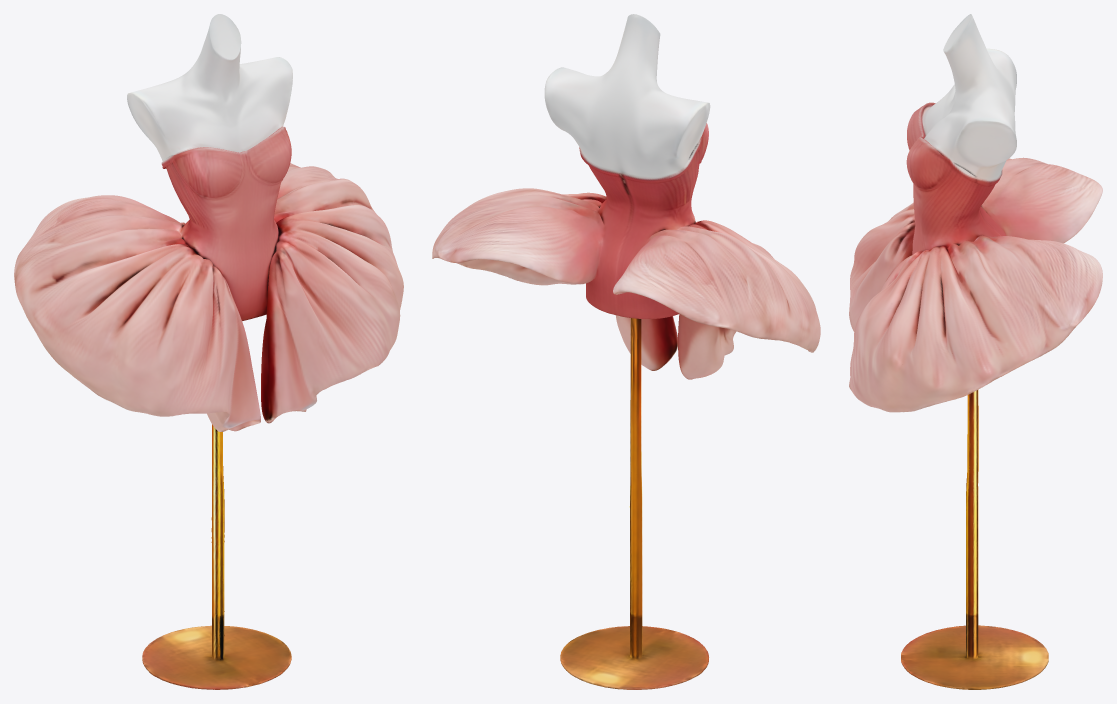
Rendered from base_basic_shaded.fbx.
3 views of the same model, side by side, from view 1: azimuth 30°, elevation 25°; view 2: azimuth 150°, elevation 25°; view 3: azimuth 270°, elevation 25° (orthographic).
Visible parts, largest first — view 1: model; view 2: model; view 3: model.
Boxes of the visible parts, left/top/right/bottom form: model: left=14, top=14, right=403, bottom=689; model: left=432, top=14, right=820, bottom=689; model: left=849, top=14, right=1102, bottom=689.
Size of the model in its own units: 100 by 175 by 62.75.
